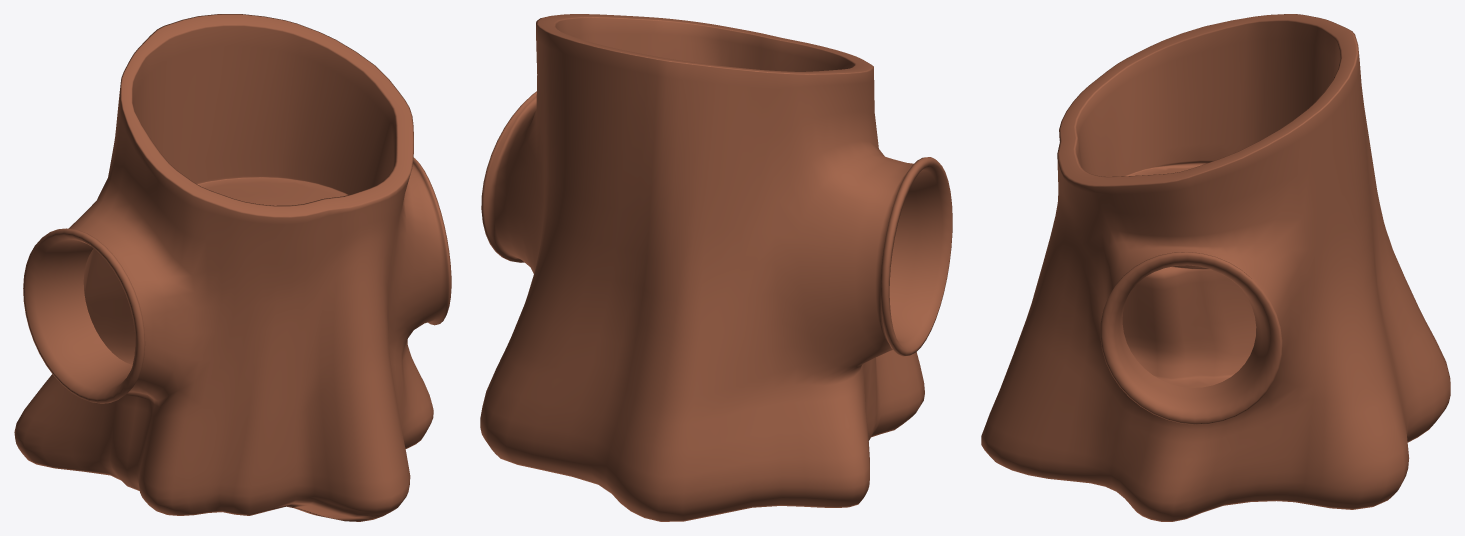
File: houdai_ue_sayuu.fbx
3 renders of one model, left to right at view 1: azimuth 30°, elevation 25°; view 2: azimuth 150°, elevation 25°; view 3: azimuth 270°, elevation 25°, orthographic. The views are drawn at different scales.
Parts seen in each view (by area): view 1: pCylinder2; view 2: pCylinder2; view 3: pCylinder2.
Part boxes in pixels (box(x1,y1,x2,y2)): pCylinder2: box(14, 14, 451, 521); pCylinder2: box(480, 14, 952, 521); pCylinder2: box(981, 14, 1450, 521).
Size of the model in its own units: 248 by 244 by 258.
